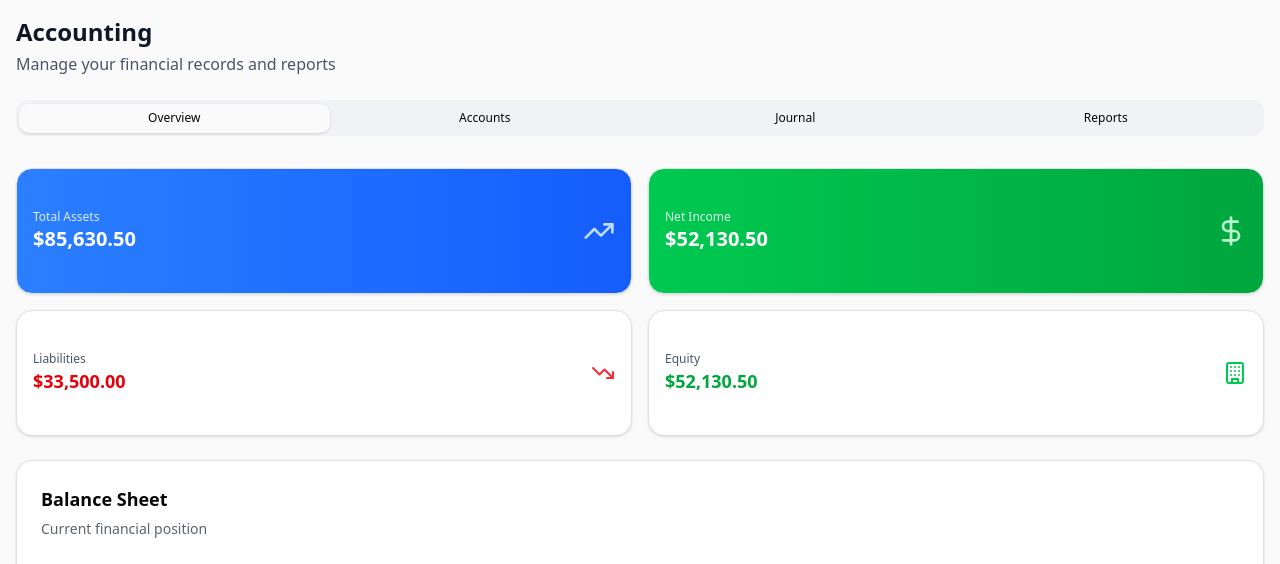
Test: MobileAccountingModule › shows accounts list
Click the tab "Accounts".
click(485, 118)  # box [330, 104, 640, 132]
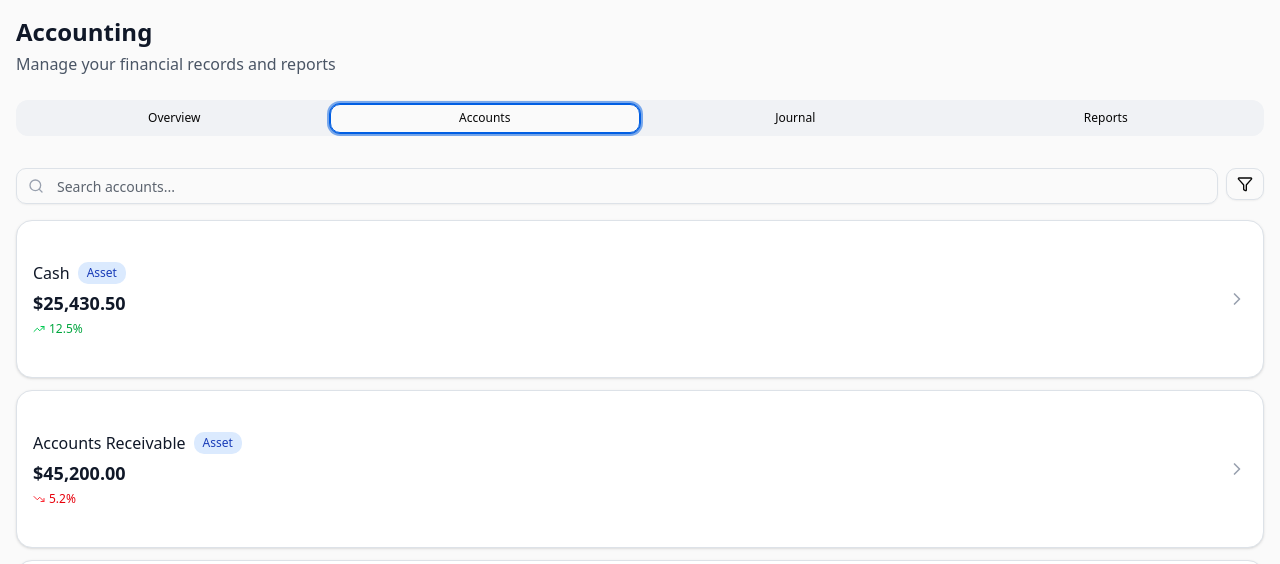
Expected: the heading "Cash" is shown, [33, 261, 70, 285]
